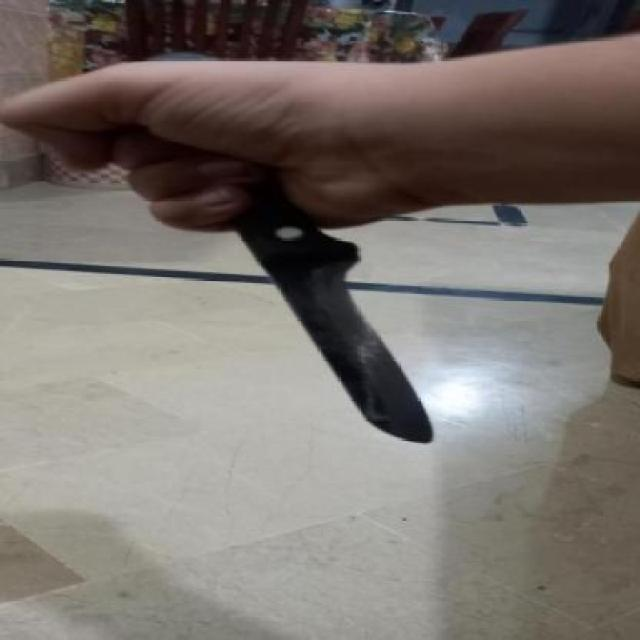knife: (233, 171, 434, 444)
